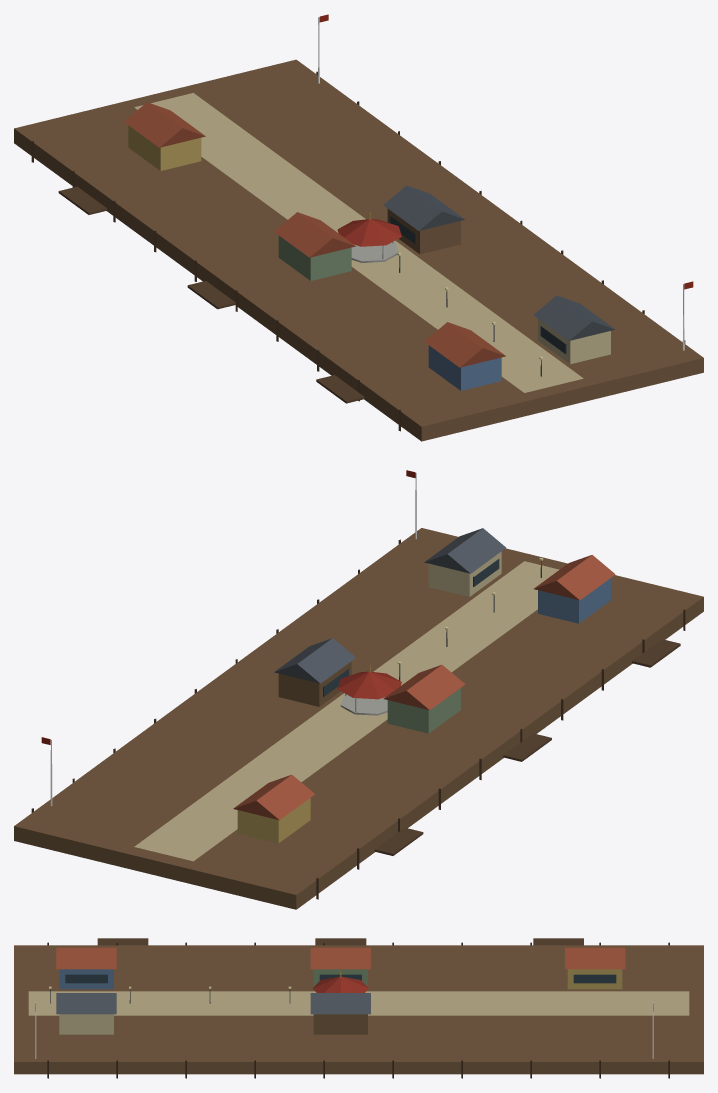
File: mobile.glb
3 views of the same model, one above another, from view 1: azimuth 30°, elevation 25°; view 2: azimuth 150°, elevation 25°; view 3: azimuth 270°, elevation 25° (orthographic). The views are drawn at different scales.
Parts seen in each view (by area): view 1: lm.pier-39; view 2: lm.pier-39; view 3: lm.pier-39.
Boxes of the visible parts, x1,y1,x2,y2 form: lm.pier-39: (14, 14, 703, 441); lm.pier-39: (14, 470, 703, 909); lm.pier-39: (14, 938, 703, 1078).
Size of the model in its own units: 83.6 by 21.9 by 190.
